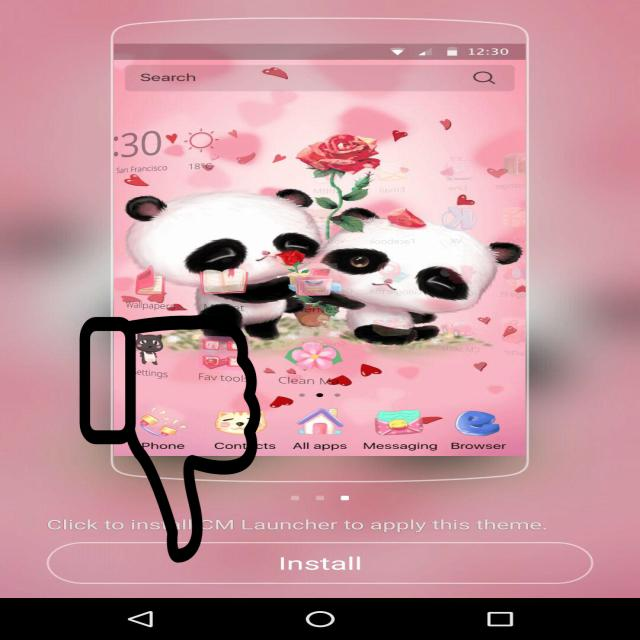obstruction: (77, 315, 263, 563)
